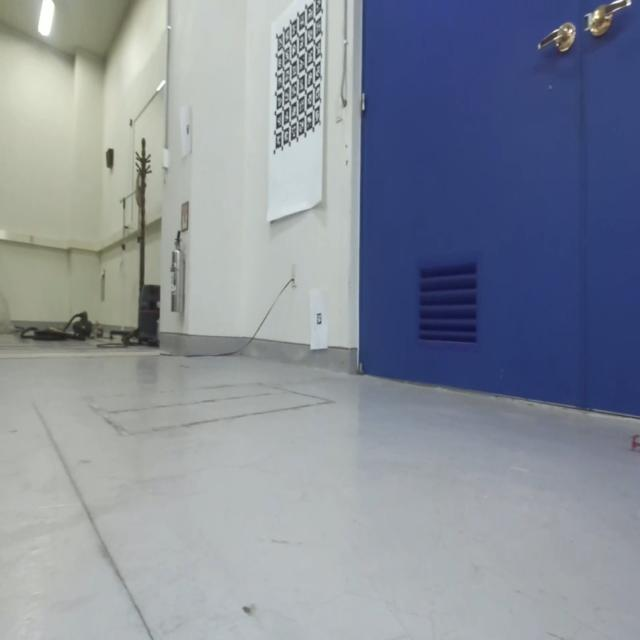crazyflie: (626, 426, 640, 456)
